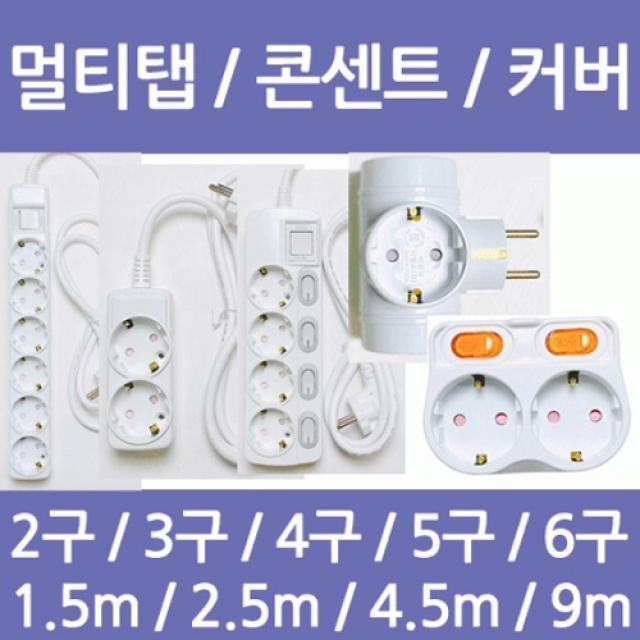typeb: (422, 310, 637, 482)
